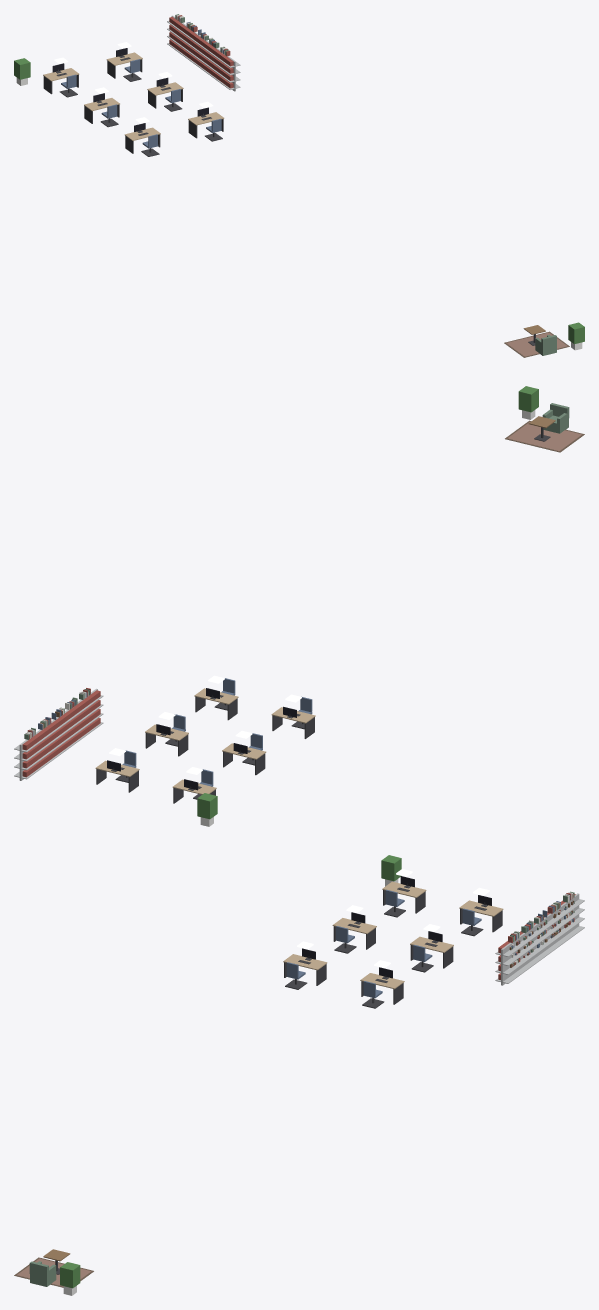
The model's file is fine-s1.glb.
The picture shows the model from 3 angles, top to bottom: view 1: azimuth 30°, elevation 25°; view 2: azimuth 150°, elevation 25°; view 3: azimuth 330°, elevation 25°; orthographic projection. The views are drawn at different scales.
Visible parts, largest first — view 1: soft-s1, shelving.005, shelving.001, shelving.004, office-desk-real.000, office-desk-real.005, office-desk-real.004, office-desk-real.002, office-desk-real.001, shelving.002, office-desk-real.003, shelving.003; view 2: soft-s1, shelving.001, shelving.003, shelving.002, office-desk-real.003, office-desk-real.001, office-desk-real.005, office-desk-real.004, office-desk-real.002, shelving.005, shelving.004, sofa.000 (+2 smaller); view 3: soft-s1, shelving.005, shelving.001, office-desk-real.003, office-desk-real.000, office-desk-real.001, office-desk-real.004, office-desk-real.005, office-desk-real.002, shelving.004, shelving.002, sofa.000 (+1 smaller).
Boxes of the visible parts, x1,y1,x2,y2 form: soft-s1: (175, 14, 569, 357); shelving.005: (211, 48, 240, 91); shelving.001: (167, 15, 188, 56); shelving.004: (200, 40, 221, 81); office-desk-real.000: (43, 63, 79, 94); office-desk-real.005: (188, 107, 224, 138); office-desk-real.004: (124, 123, 160, 153); office-desk-real.002: (84, 93, 119, 123); office-desk-real.001: (106, 48, 142, 78); shelving.002: (178, 25, 200, 64); office-desk-real.003: (147, 77, 183, 108); shelving.003: (189, 32, 210, 73); soft-s1: (24, 420, 584, 739); shelving.001: (14, 729, 48, 780); shelving.003: (51, 710, 75, 758); shelving.002: (37, 719, 62, 766); office-desk-real.003: (145, 724, 188, 756); office-desk-real.001: (95, 760, 139, 792); office-desk-real.005: (194, 688, 238, 720); office-desk-real.004: (271, 706, 315, 738); office-desk-real.002: (222, 743, 266, 775); shelving.005: (77, 688, 103, 738); shelving.004: (63, 699, 89, 748); sofa.000: (542, 403, 569, 433); soft-s1: (14, 891, 574, 1287); shelving.005: (495, 934, 530, 985); shelving.001: (557, 893, 584, 943); office-desk-real.003: (410, 931, 453, 968); office-desk-real.000: (382, 876, 426, 913); office-desk-real.001: (459, 895, 503, 932); office-desk-real.004: (283, 948, 327, 985); office-desk-real.005: (360, 967, 404, 1004); office-desk-real.002: (332, 912, 376, 949); shelving.004: (516, 924, 544, 973); shelving.002: (543, 904, 571, 953); sofa.000: (29, 1261, 56, 1286).
Bounding box in the file's own units: 9.21 × 1.93 × 40.81.
